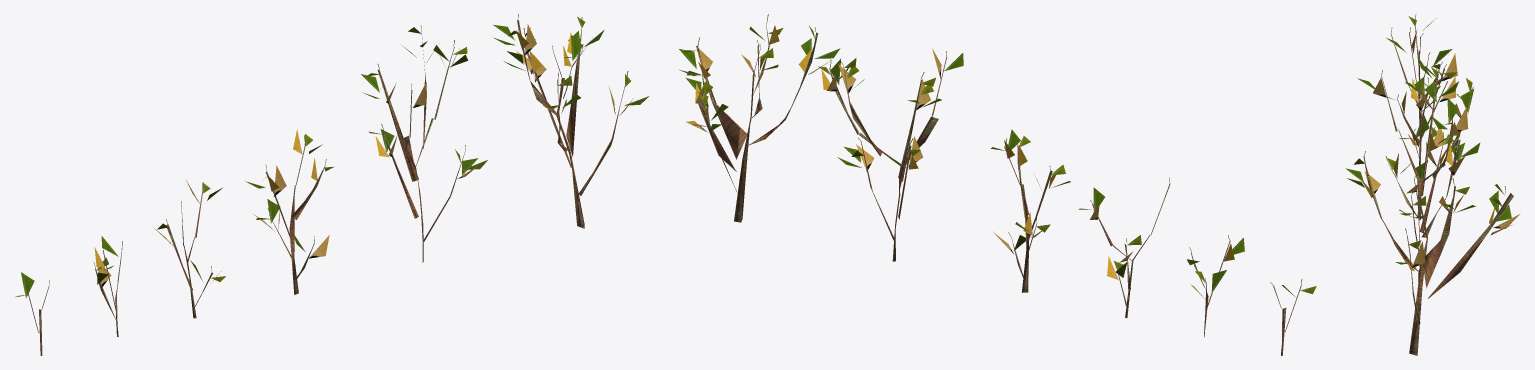
The model's file is ph_periwinkle_plant.glb.
3 renders of one model, left to right at view 1: azimuth 30°, elevation 25°; view 2: azimuth 150°, elevation 25°; view 3: azimuth 270°, elevation 25°, orthographic. The views are drawn at different scales.
Visible parts, largest first — view 1: periwinkle_plant_04_LOD0; view 2: periwinkle_plant_04_LOD0; view 3: periwinkle_plant_04_LOD0.
Boxes of the visible parts, x1,y1,x2,y2 form: periwinkle_plant_04_LOD0: (15, 14, 649, 355); periwinkle_plant_04_LOD0: (679, 14, 1316, 355); periwinkle_plant_04_LOD0: (1345, 14, 1519, 355).
Size of the model in its own units: 1.23 by 0.4047 by 0.3081.
Materials: 1 (1 with a texture image).
